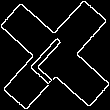L_NE: (27, 26, 83, 84)
